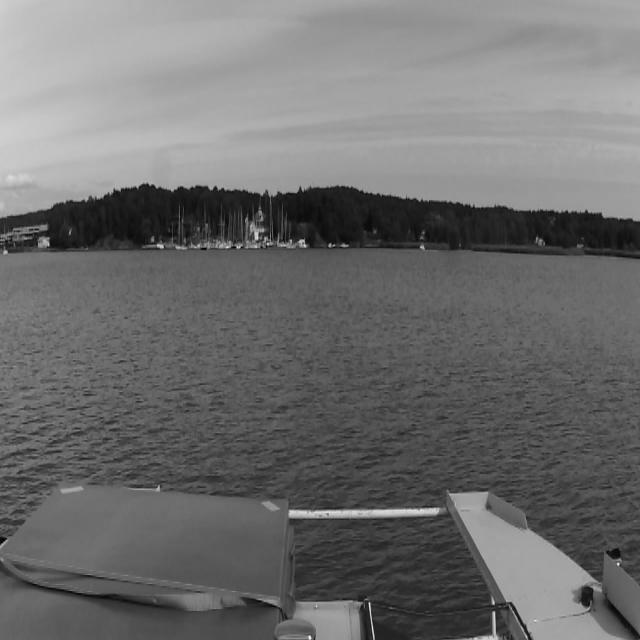ship: (175, 205, 188, 251), (266, 194, 276, 246), (277, 203, 289, 246), (218, 203, 225, 249), (235, 206, 241, 249), (226, 208, 232, 249), (294, 239, 306, 248), (339, 242, 349, 249), (327, 242, 337, 248), (201, 243, 207, 250), (420, 244, 424, 250)
